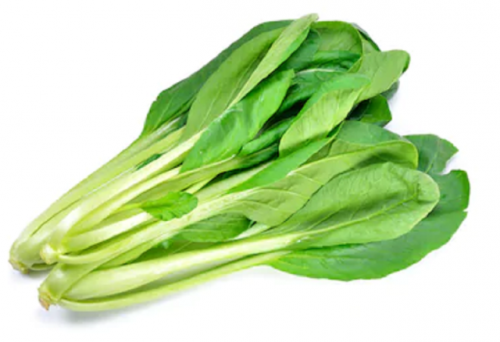Sawi: (26, 15, 482, 334)
